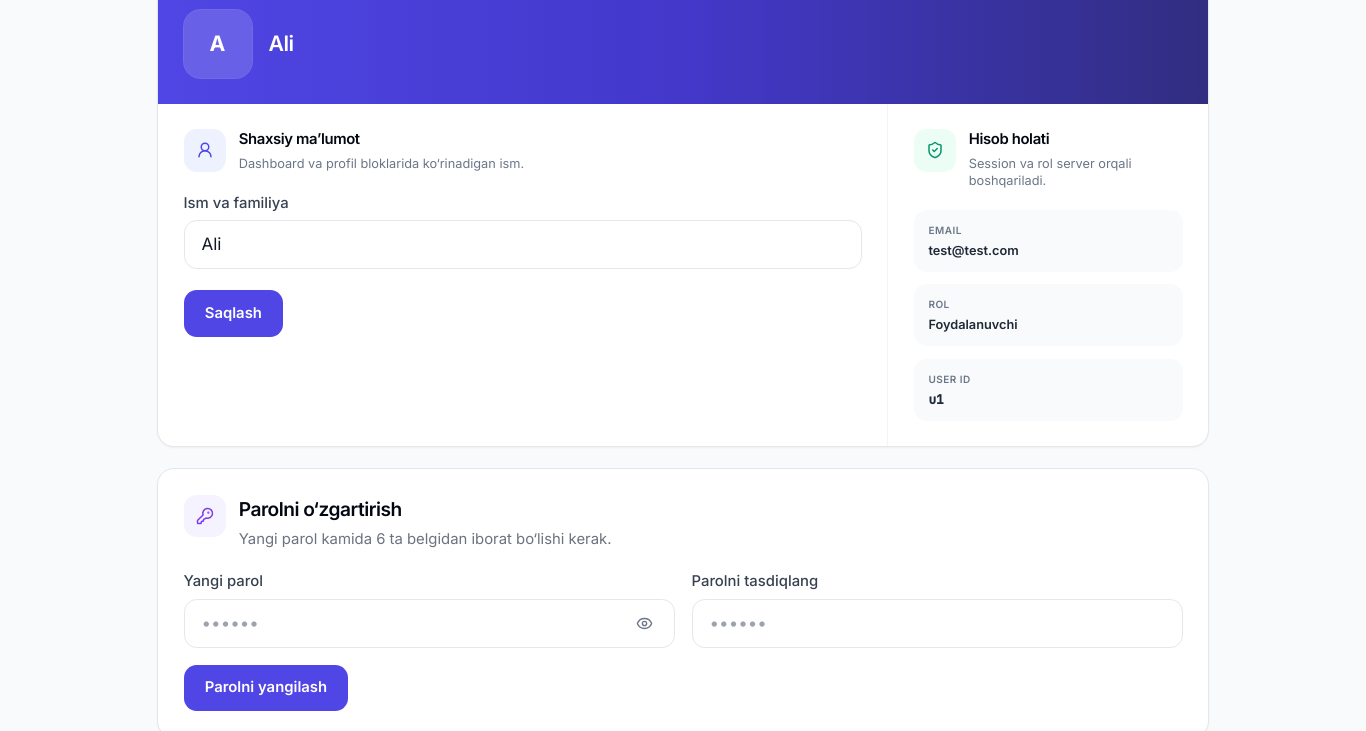
Test: Profile sahifasi › parol yangilash muvaffaqiyatli: updatePassword chaqiriladi, maydonlar tozalanadi
The image size is (1366, 731).
(page scrolled)
Type "newsecret123" into the password field labelled "Yangi parol". click: {"x": 429, "y": 623}
box: [184,599,674,648]
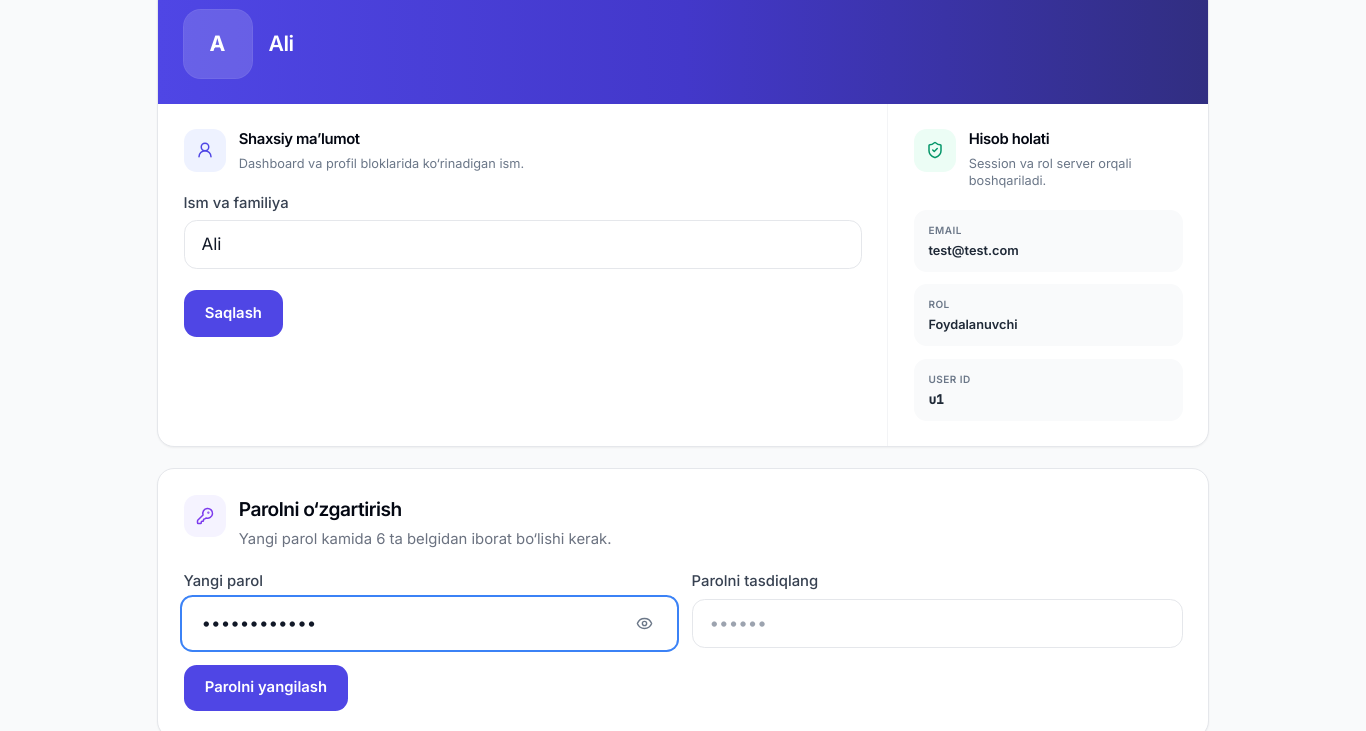
Type "newsecret123" into the password field labelled "Parolni tasdiqlang". click: {"x": 937, "y": 623}
box: [692,599,1182,648]
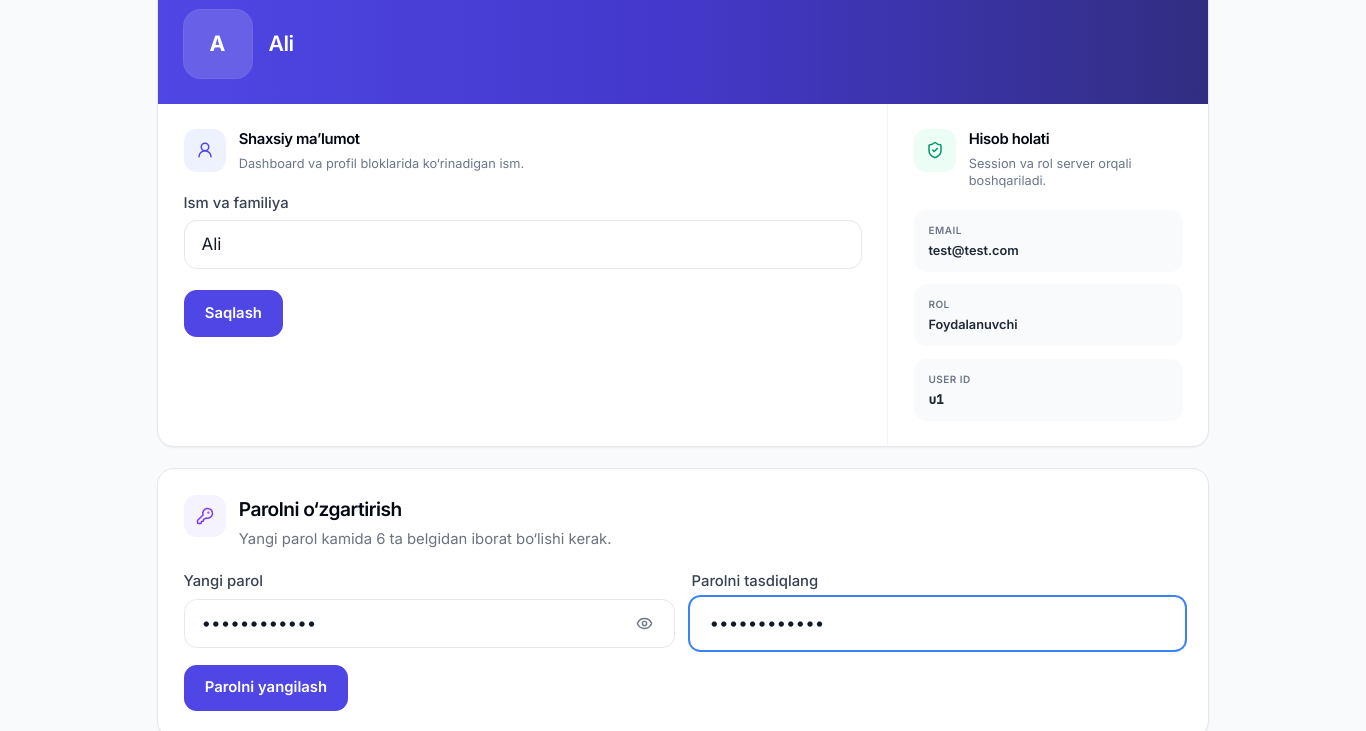
Click the button "Parolni yangilash". click: {"x": 266, "y": 688}
box: [184,665,348,711]
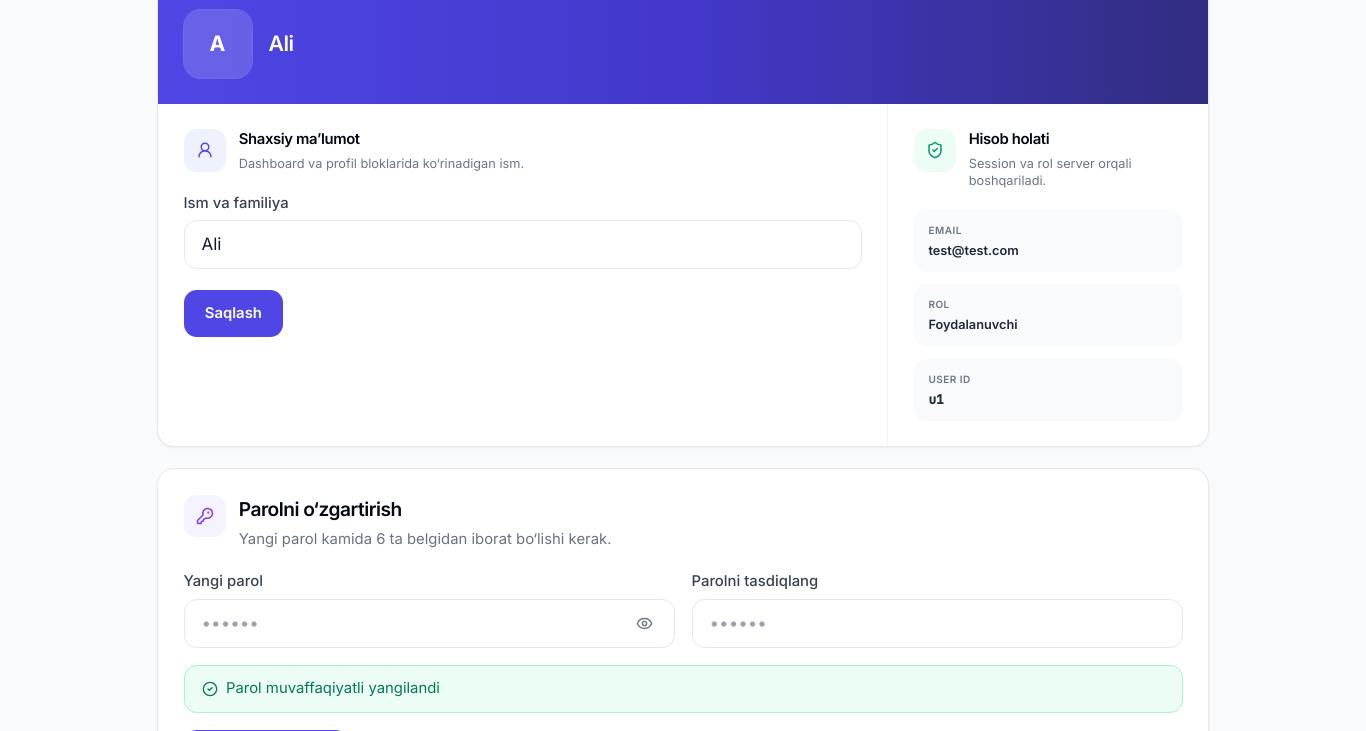
Result: the text "Parol muvaffaqiyatli yangilandi" is shown at [184,665,1182,713]
Result: the password field labelled "Yangi parol" is empty at [184,599,674,648]
Result: the password field labelled "Parolni tasdiqlang" is empty at [692,599,1182,648]
